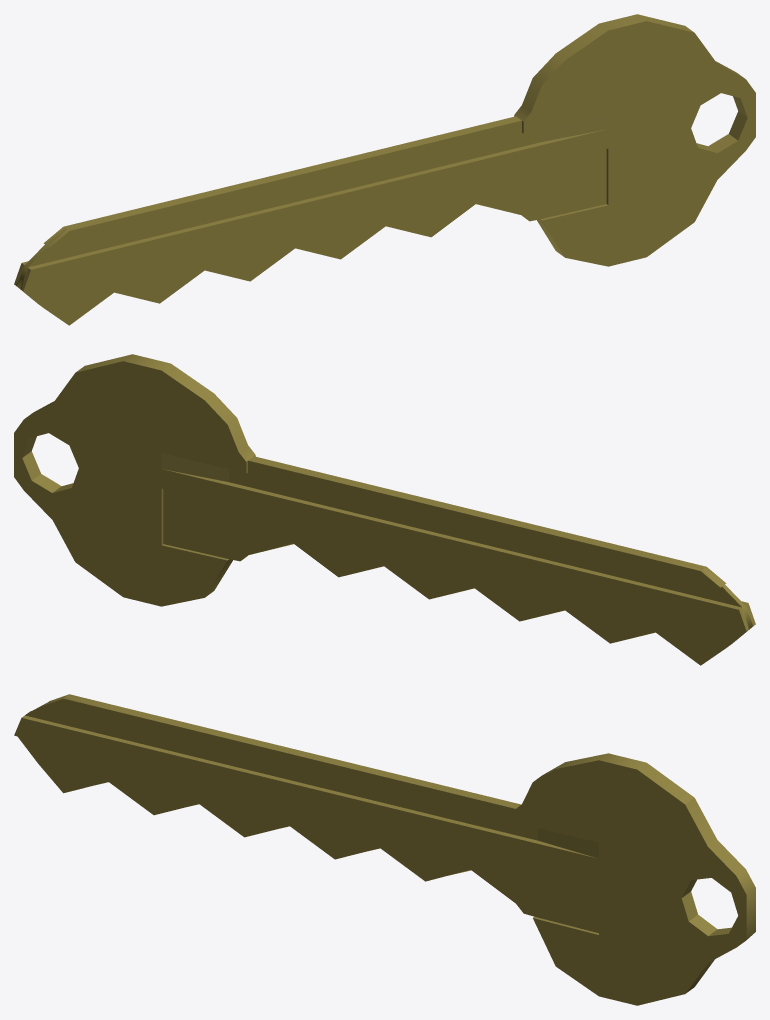
Rendered from Toolbox_Key.fbx.
The picture shows the model from 3 angles, top to bottom: view 1: azimuth 30°, elevation 25°; view 2: azimuth 150°, elevation 25°; view 3: azimuth 330°, elevation 25°; orthographic projection.
Visible parts, largest first — view 1: pCube1; view 2: pCube1; view 3: pCube1.
Part boxes in pixels (x1,y1,x2,y2): pCube1: (14, 14, 755, 325); pCube1: (14, 354, 755, 665); pCube1: (14, 694, 755, 1005).
Bounding box in the file's own units: 16.18 × 4.99 × 0.3625.
